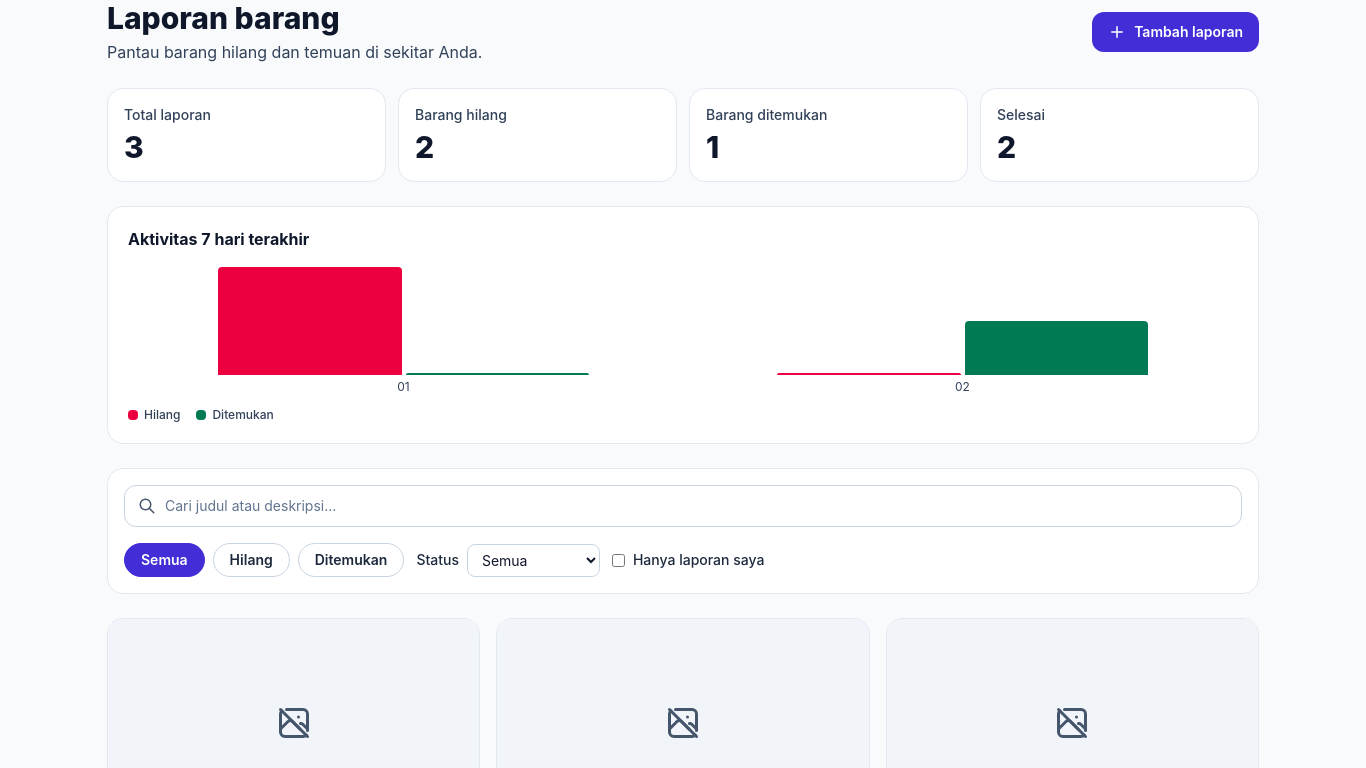
Test: HomePage › menambah laporan lalu memuat ulang data
This screenshot has width=1366, height=768.
Click the button "Tambah laporan": (1176, 32) top-left (1092, 12), bottom-right (1259, 52)
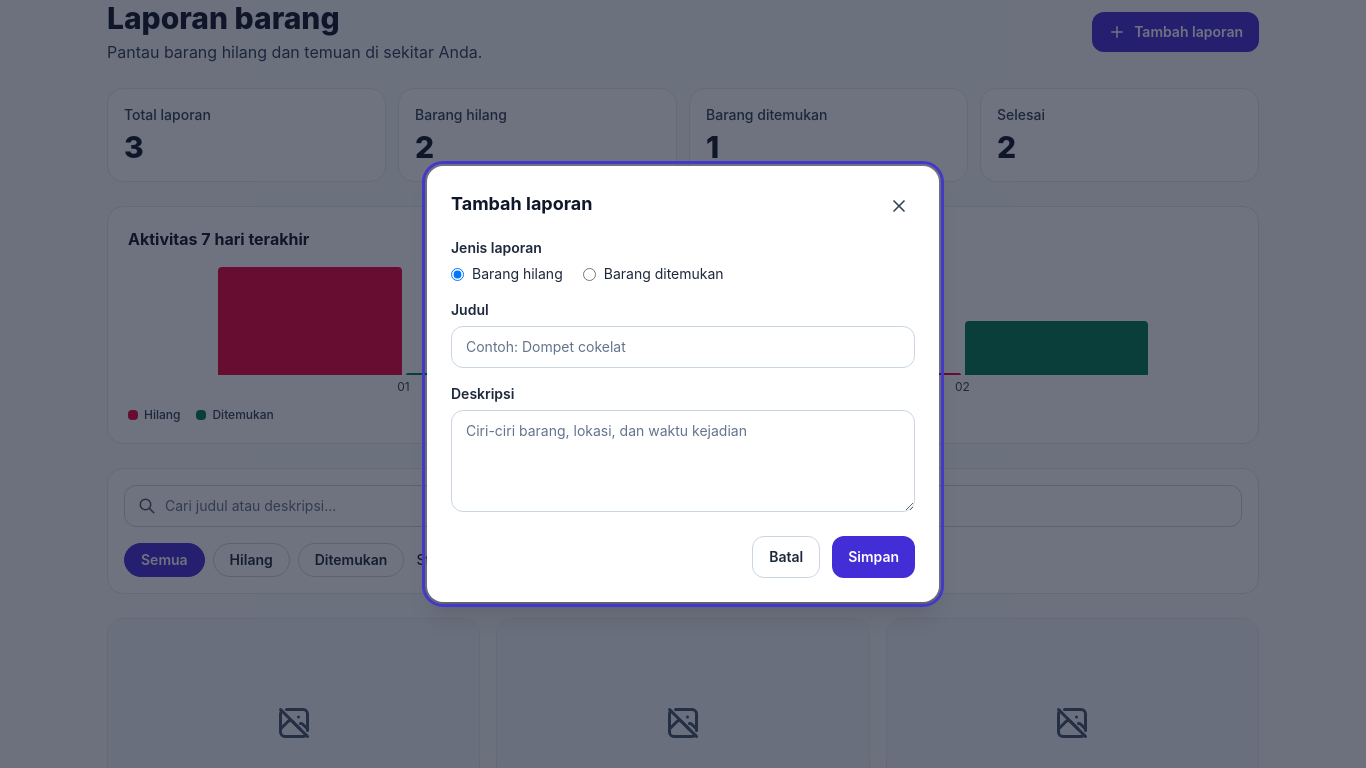
Result: the dialog "Tambah laporan" is shown at top-left (427, 166), bottom-right (939, 602)
In the field labelled "Judul": (683, 347) top-left (451, 326), bottom-right (915, 368), type "Tas"
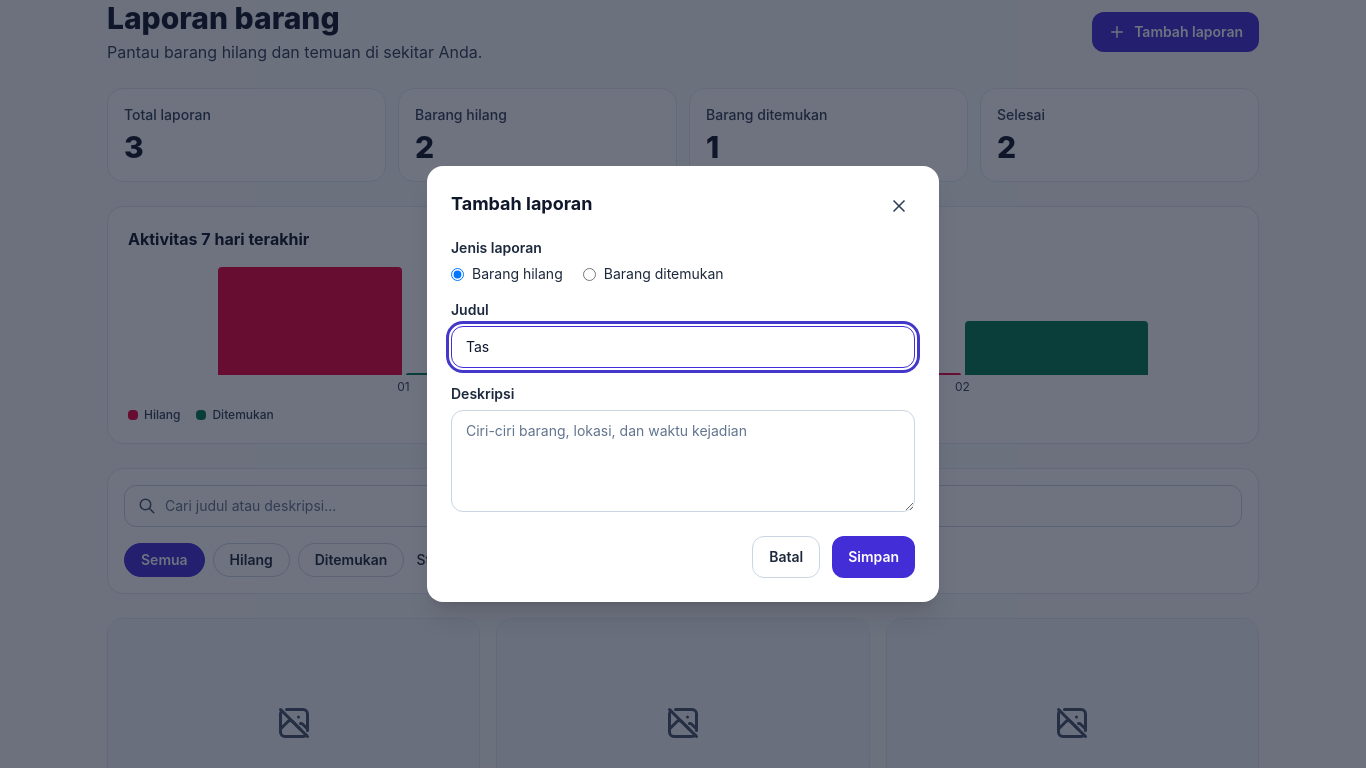
In the text box labelled "Deskripsi": (683, 461) top-left (451, 410), bottom-right (915, 512), type "Tas biru"
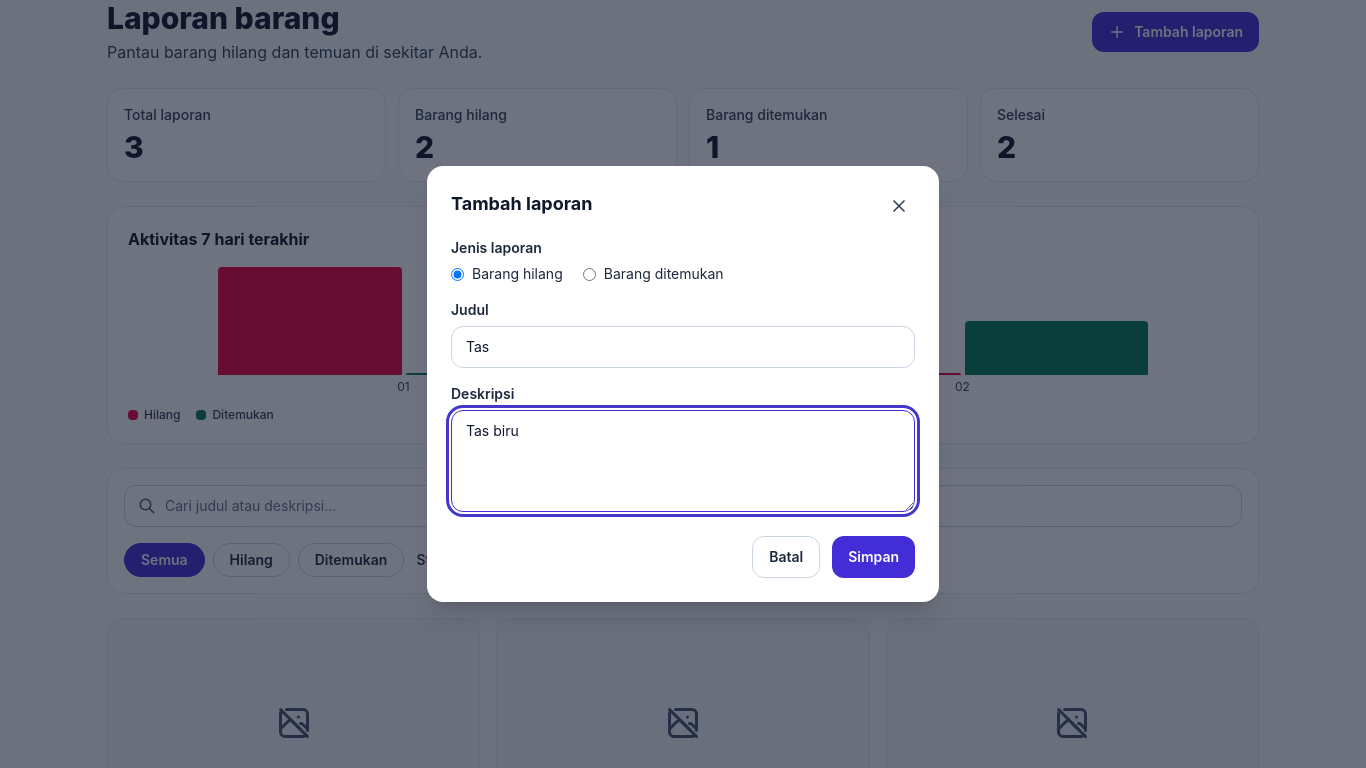
Click the button "Simpan": (874, 557) top-left (832, 536), bottom-right (915, 578)
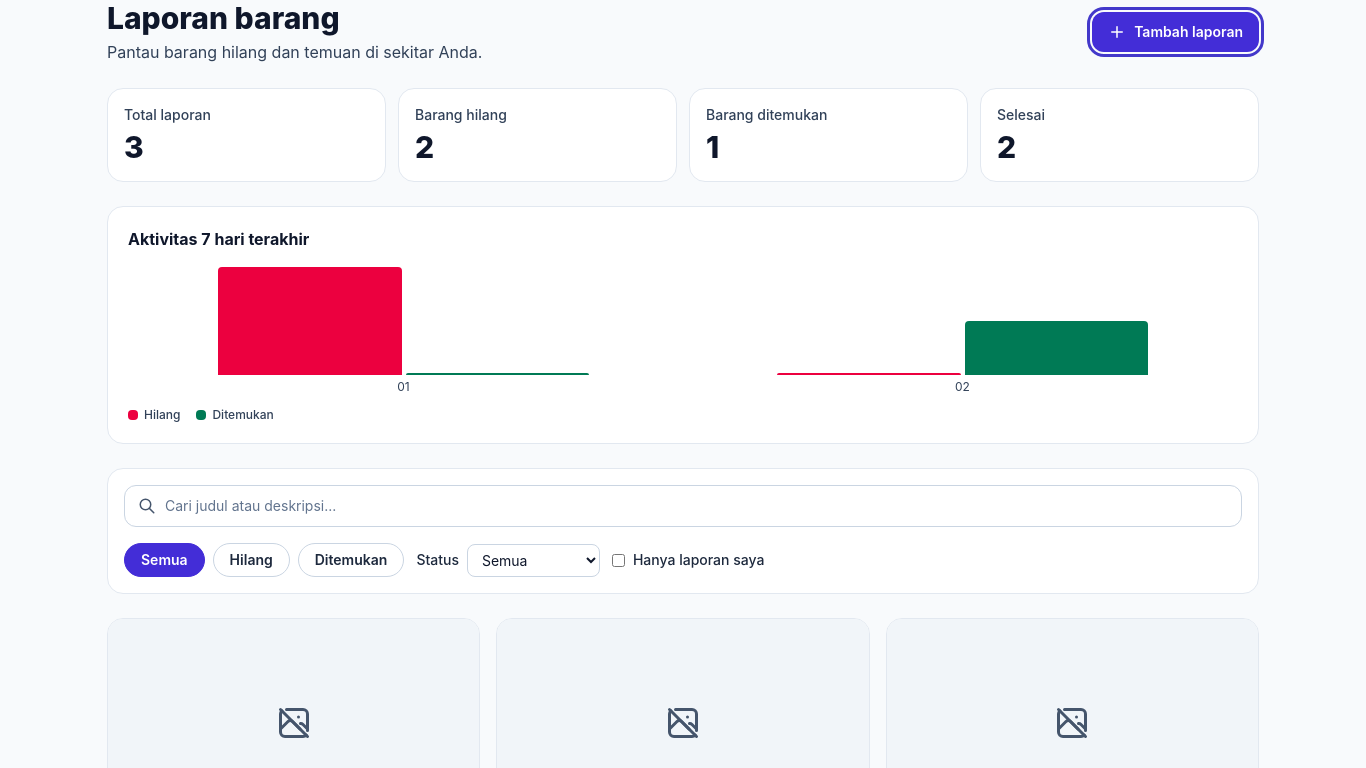
Result: the dialog is gone
